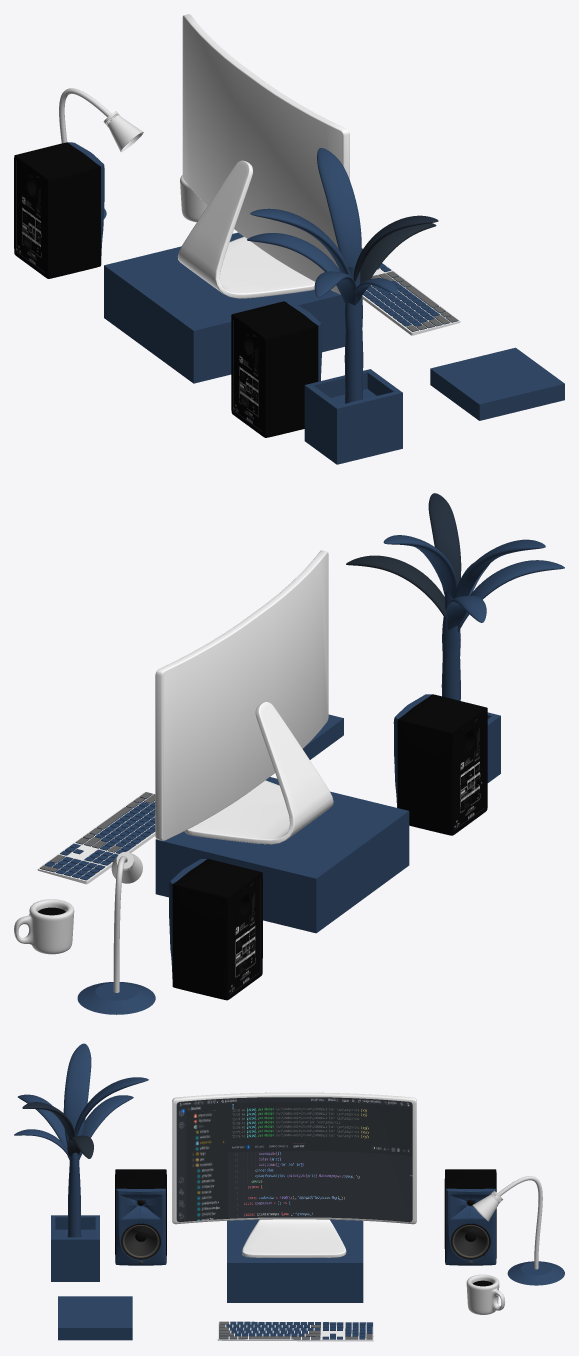
File: monitor try 2.gltf
The picture shows the model from 3 angles, top to bottom: view 1: azimuth 30°, elevation 25°; view 2: azimuth 150°, elevation 25°; view 3: azimuth 270°, elevation 25°; orthographic projection. The views are drawn at different scales.
Parts seen in each view (by area): view 1: Plane.001, Cube, Woofer * tweaker * Casing.001, monitor leg, Woofer * tweaker * Casing, Cube.001, Cube.010, Keyboard, Cube.006, Backplate, Backplate.001, Circle.002 (+8 smaller); view 2: Plane.001, Cube, Woofer * tweaker * Casing.001, Woofer * tweaker * Casing, monitor leg, Keyboard, Backplate.001, Backplate, Circle, Circle.004, Cube.005, Cube.008 (+9 smaller); view 3: Plane.001, Cube, Woofer * tweaker * Casing, Woofer * tweaker * Casing.001, monitor leg, Cube.010, Keyboard, Cube.001, Cube.007, Circle, Circle.004, Circle.002 (+7 smaller).
Part boxes in pixels (<box>): Plane.001: <box>182,14,349,294</box>; Cube: <box>104,232,345,383</box>; Woofer * tweaker * Casing.001: <box>14,142,104,278</box>; monitor leg: <box>177,160,315,298</box>; Woofer * tweaker * Casing: <box>231,301,321,437</box>; Cube.001: <box>304,369,402,464</box>; Cube.010: <box>430,347,564,420</box>; Keyboard: <box>361,247,460,335</box>; Cube.006: <box>317,148,361,267</box>; Backplate: <box>233,319,263,431</box>; Backplate.001: <box>16,160,45,272</box>; Circle.002: <box>344,267,363,403</box>; Plane.001: <box>155,550,328,840</box>; Cube: <box>155,777,409,933</box>; Woofer * tweaker * Casing.001: <box>169,858,262,1000</box>; Woofer * tweaker * Casing: <box>393,694,487,835</box>; monitor leg: <box>184,702,333,844</box>; Keyboard: <box>37,792,155,884</box>; Backplate.001: <box>229,877,260,993</box>; Backplate: <box>454,712,485,829</box>; Circle: <box>14,899,74,954</box>; Circle.004: <box>77,982,155,1014</box>; Cube.005: <box>428,493,461,594</box>; Cube.008: <box>346,555,446,619</box>; Plane.001: <box>172,1092,416,1224</box>; Cube: <box>227,1219,363,1302</box>; Woofer * tweaker * Casing: <box>115,1169,166,1265</box>; Woofer * tweaker * Casing.001: <box>444,1169,496,1265</box>; monitor leg: <box>242,1219,346,1257</box>; Cube.010: <box>58,1296,132,1340</box>; Keyboard: <box>217,1321,373,1341</box>; Cube.001: <box>51,1215,99,1281</box>; Cube.007: <box>63,1043,91,1145</box>; Circle: <box>466,1274,505,1314</box>; Circle.004: <box>507,1261,564,1285</box>; Circle.002: <box>67,1134,81,1237</box>.
Size of the model in its own units: 8.35 by 6.87 by 17.48.
28 materials, 5 textured.
